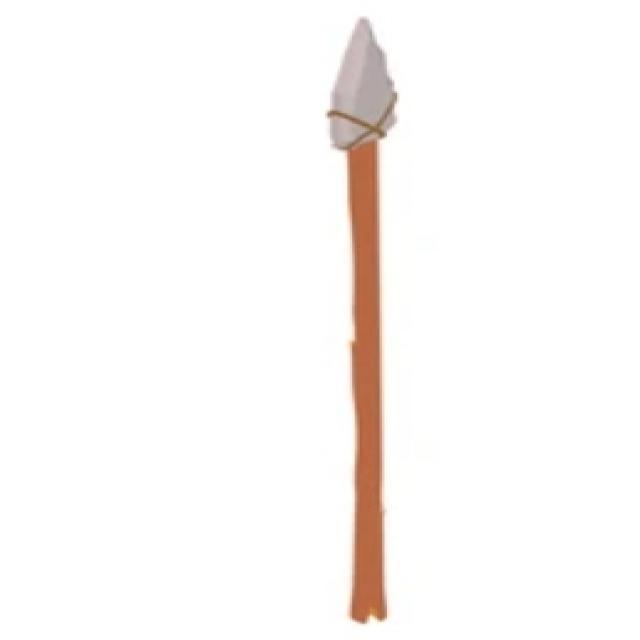spear: (301, 9, 410, 632)
